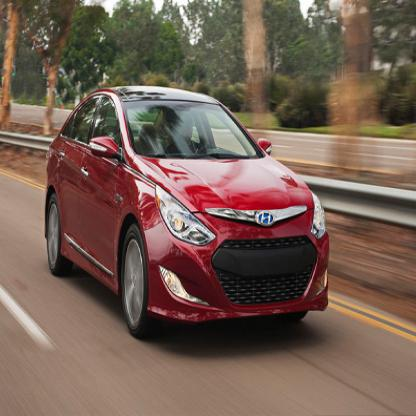Vehicle: (44, 83, 331, 338)
